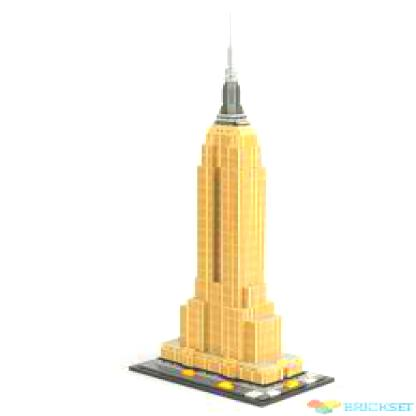Empire-State-building: (158, 7, 308, 378)
